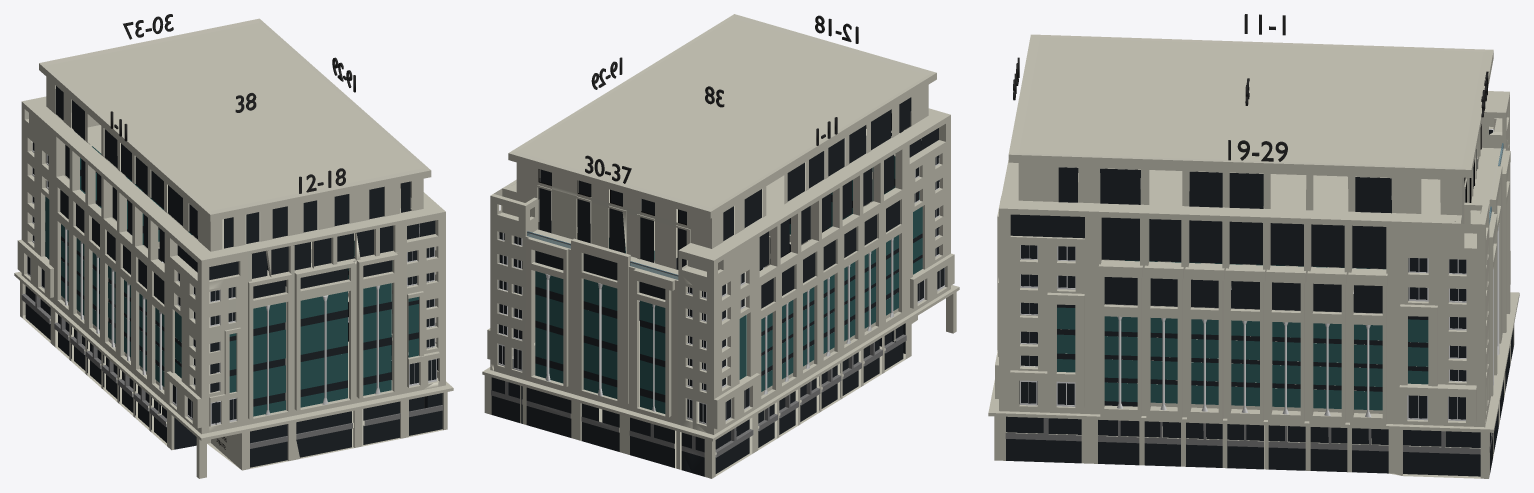
Rendered from 3PancrasSquare.glb.
3 renders of one model, left to right at view 1: azimuth 30°, elevation 25°; view 2: azimuth 150°, elevation 25°; view 3: azimuth 270°, elevation 25°, orthographic. The views are drawn at different scales.
Visible parts, largest first — view 1: Cube1, Drop15, Drop38, Drop14, Drop16, Cylinders, Drop17, Frames, Drop9, Drop13, Drop12, Drop4 (+7 smaller); view 2: Cube1, Drop34, Drop38, Drop30, Drop33, Drop35, Cylinders, Frames, Drop9, Drop6, Drop8, Drop7 (+7 smaller); view 3: Cube1, Drop38, Drop21, Drop26, Drop27, Drop24, Drop25, Drop23, Drop22, Drop20, Cylinders, Drop28 (+3 smaller).
Boxes of the visible parts, <box> form: Cube1: <box>14,18,453,478</box>; Drop15: <box>294,233,353,407</box>; Drop38: <box>55,86,410,248</box>; Drop14: <box>252,246,288,416</box>; Drop16: <box>356,225,393,395</box>; Cylinders: <box>65,227,380,415</box>; Drop17: <box>407,223,419,384</box>; Frames: <box>27,142,436,425</box>; Drop9: <box>154,228,164,386</box>; Drop13: <box>223,261,238,420</box>; Drop12: <box>209,264,222,424</box>; Drop4: <box>76,159,85,315</box>; Cube1: <box>482,14,959,478</box>; Drop34: <box>583,253,617,398</box>; Drop38: <box>723,97,911,240</box>; Drop30: <box>539,169,686,269</box>; Drop33: <box>535,250,563,383</box>; Drop35: <box>640,282,665,413</box>; Cylinders: <box>545,238,893,411</box>; Frames: <box>498,155,944,424</box>; Drop9: <box>884,154,899,315</box>; Drop6: <box>822,193,835,353</box>; Drop8: <box>863,168,876,328</box>; Drop7: <box>842,180,856,340</box>; Cube1: <box>988,34,1519,478</box>; Drop38: <box>1058,167,1391,213</box>; Drop21: <box>1101,217,1139,406</box>; Drop26: <box>1311,224,1344,408</box>; Drop27: <box>1352,225,1386,410</box>; Drop24: <box>1229,221,1262,406</box>; Drop25: <box>1270,223,1303,407</box>; Drop23: <box>1189,220,1222,404</box>; Drop22: <box>1149,219,1181,403</box>; Drop20: <box>1048,215,1084,404</box>; Cylinders: <box>1117,223,1499,417</box>; Drop28: <box>1408,258,1428,418</box>.
Size of the model in its own units: 183 by 178 by 264.
7 materials, 1 textured.
